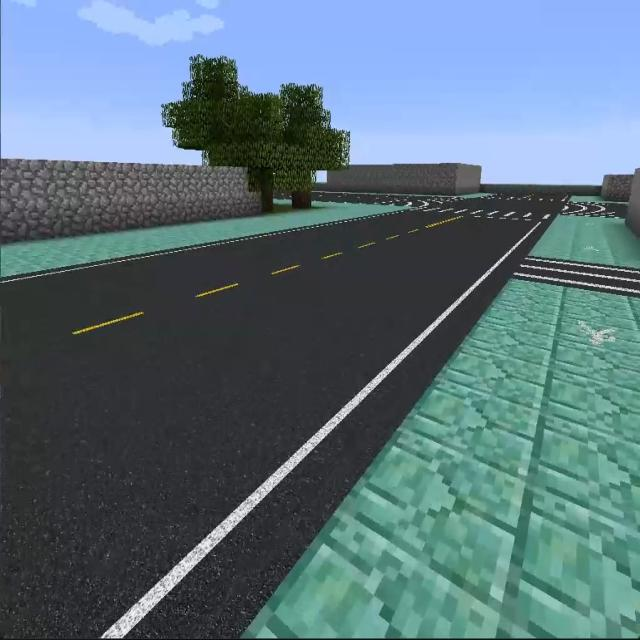crosswalk: (512, 251, 636, 294), (406, 207, 556, 226), (557, 199, 616, 215), (395, 197, 466, 208)
road: (4, 211, 548, 638)
sidewalk: (245, 280, 639, 639), (0, 203, 404, 281), (530, 216, 639, 268), (571, 195, 624, 203)
